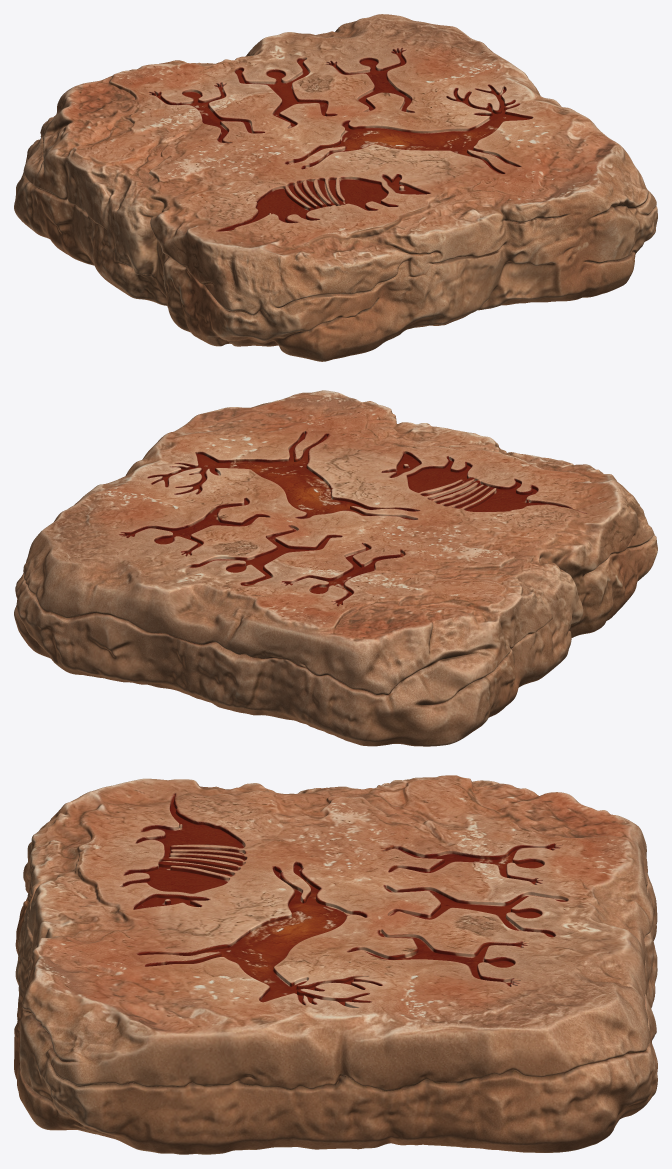
Rendered from jaegerin_original.glb.
3 renders of one model, top to bottom at view 1: azimuth 30°, elevation 25°; view 2: azimuth 150°, elevation 25°; view 3: azimuth 270°, elevation 25°, orthographic. The views are drawn at different scales.
Bounding box in the file's own units: 1.9 × 0.4265 × 1.9.
1 material, 1 textured.
